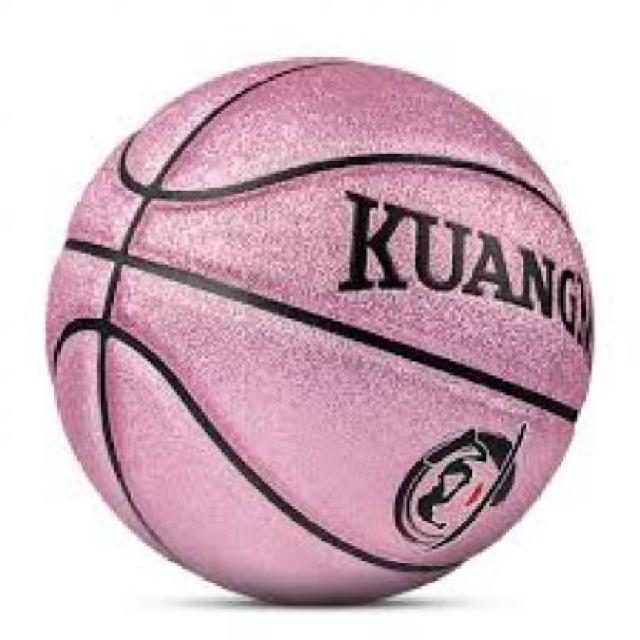basketball: (50, 56, 594, 604)
